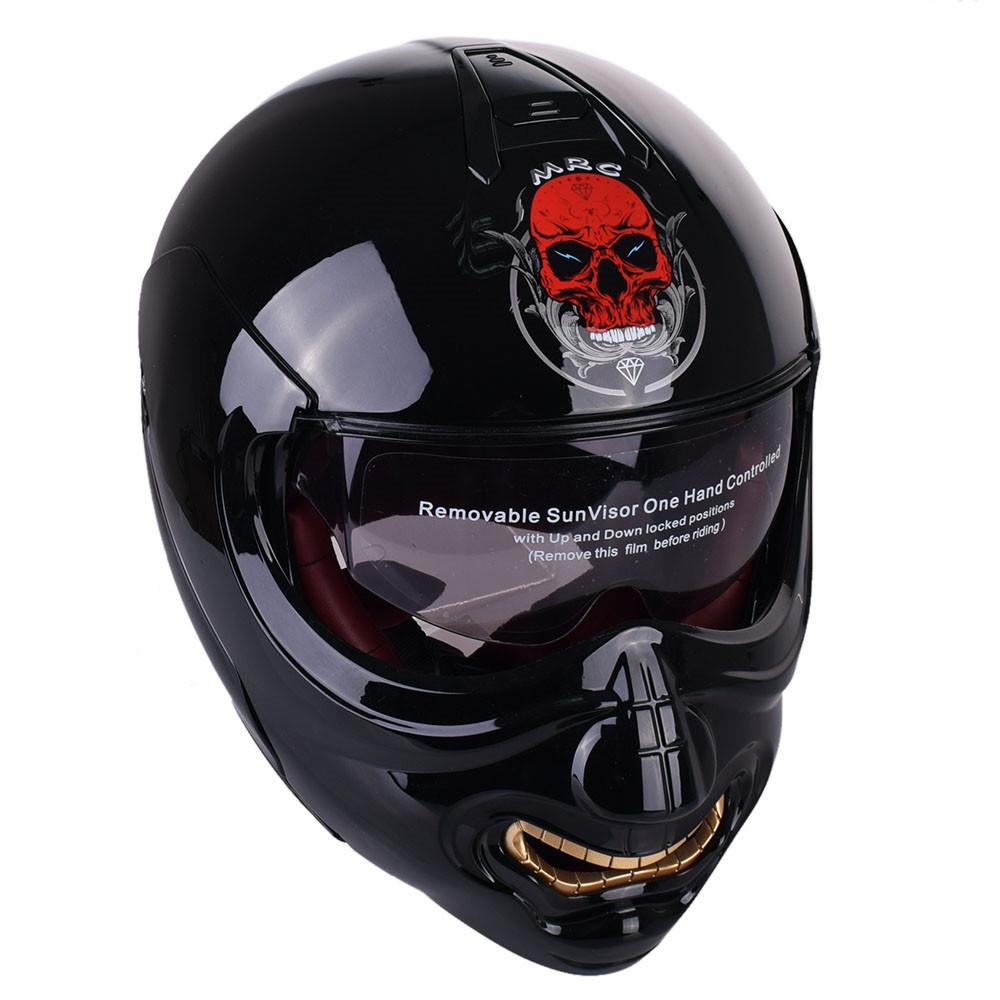with_helmet: (131, 32, 821, 985)
